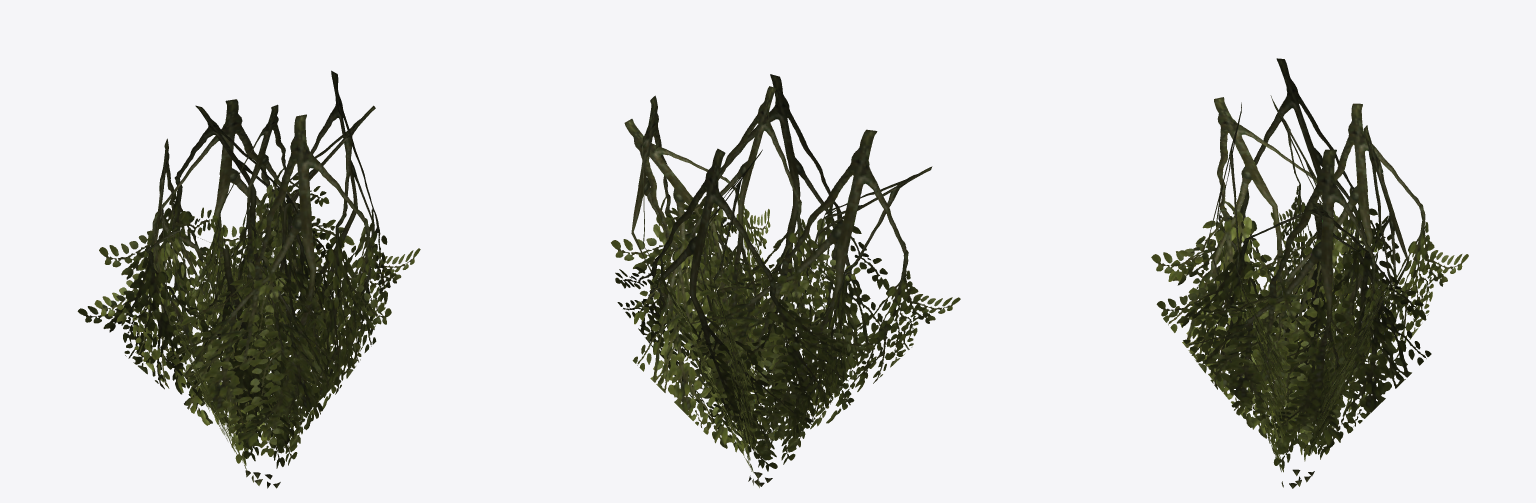
File: hedgebush.glb
3 views of the same model, side by side, from view 1: azimuth 30°, elevation 25°; view 2: azimuth 150°, elevation 25°; view 3: azimuth 270°, elevation 25° (orthographic).
Parts seen in each view (by area): view 1: HedgeBush; view 2: HedgeBush; view 3: HedgeBush.
Boxes of the visible parts, x1,y1,x2,y2 form: HedgeBush: (77, 70, 420, 488); HedgeBush: (611, 74, 960, 487); HedgeBush: (1151, 58, 1468, 488).
Bounding box in the file's own units: 3.15 × 3.24 × 3.24.
1 material, 1 textured.
